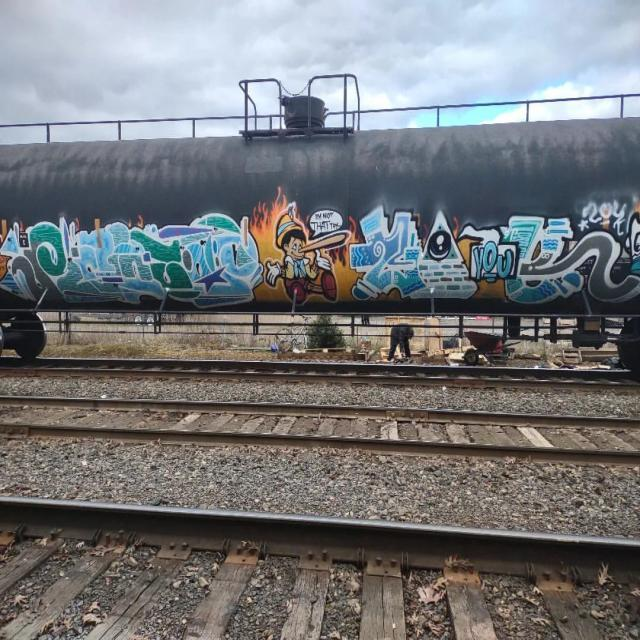-: (353, 209, 640, 320), (0, 216, 268, 313), (254, 198, 352, 310), (414, 206, 478, 306)
